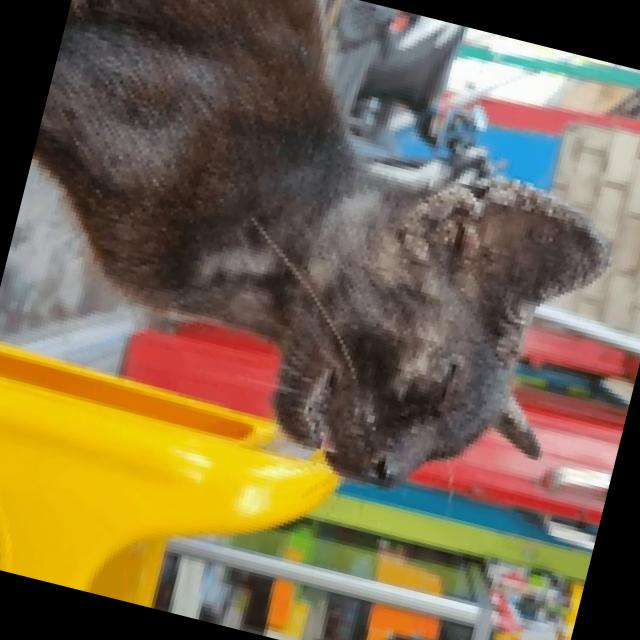Mange: (390, 147, 510, 276)
